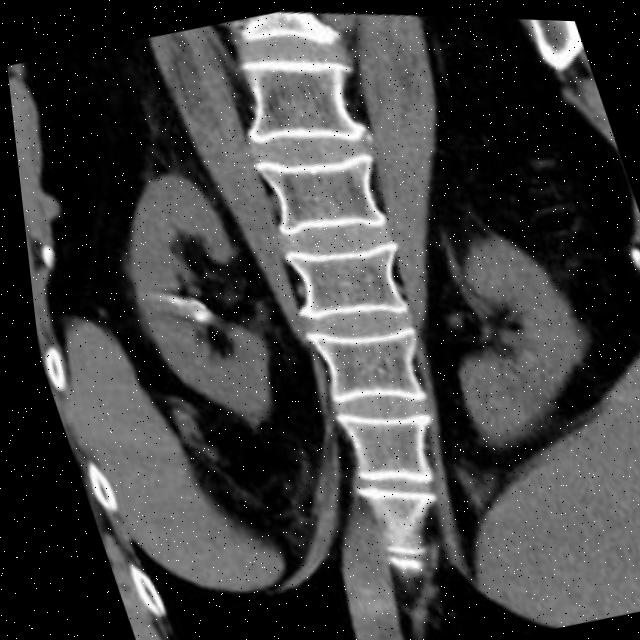Tas_Var: (177, 291, 204, 316), (155, 289, 179, 312), (183, 308, 203, 327)
